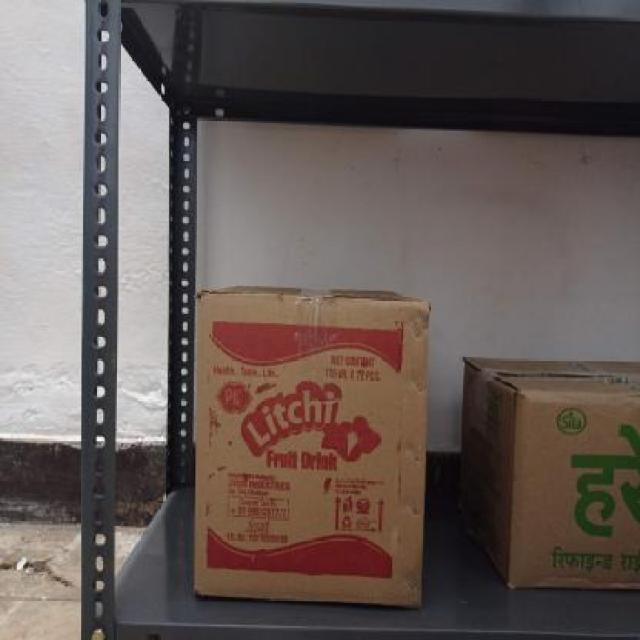box: (195, 289, 423, 608), (514, 391, 640, 593)
